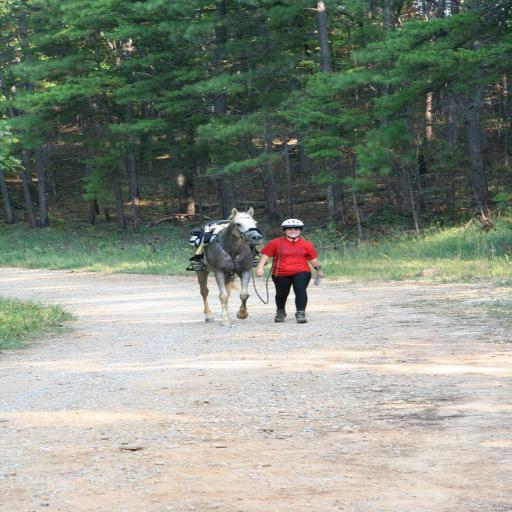horse: (188, 204, 262, 328)
